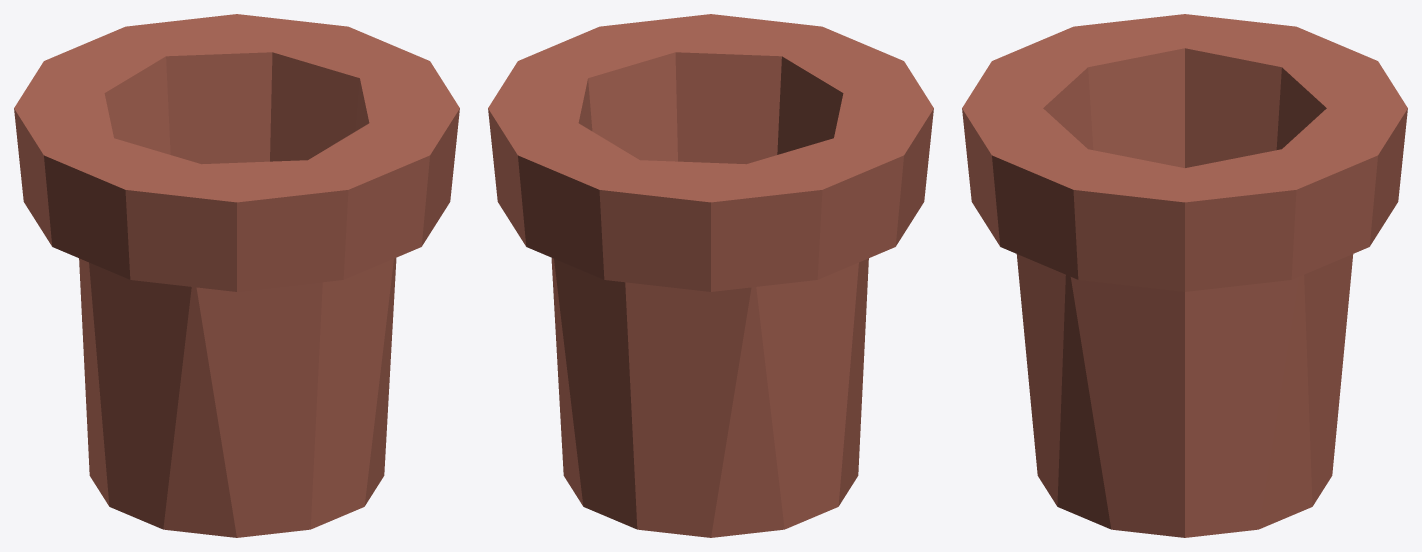
The model's file is pot-high.glb.
The picture shows the model from 3 angles, left to right: view 1: azimuth 30°, elevation 25°; view 2: azimuth 150°, elevation 25°; view 3: azimuth 270°, elevation 25°; orthographic projection.
Visible parts, largest first — view 1: pot_8.001; view 2: pot_8.001; view 3: pot_8.001.
Part boxes in pixels (x1=…): pot_8.001: x1=14, y1=14, x2=459, y2=537; pot_8.001: x1=488, y1=14, x2=933, y2=537; pot_8.001: x1=962, y1=14, x2=1407, y2=537.
Size of the model in its own units: 0.2039 by 0.1854 by 0.2039.
